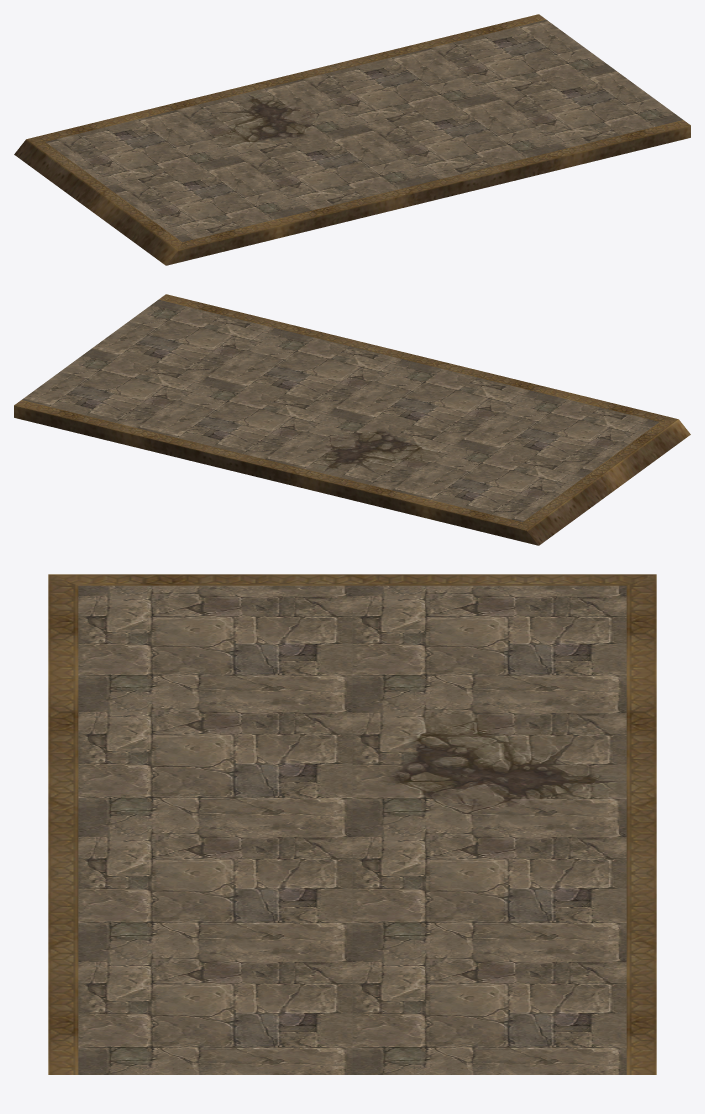
The model's file is blsd_taizi_02.FBX.
3 renders of one model, top to bottom at view 1: azimuth 30°, elevation 25°; view 2: azimuth 150°, elevation 25°; view 3: azimuth 270°, elevation 25°, orthographic. The views are drawn at different scales.
Visible parts, largest first — view 1: blsd_taizi_02; view 2: blsd_taizi_02; view 3: blsd_taizi_02.
Part boxes in pixels (x1,y1,x2,y2): blsd_taizi_02: [14, 14, 690, 265]; blsd_taizi_02: [14, 294, 690, 545]; blsd_taizi_02: [48, 574, 656, 1074].
Bounding box in the file's own units: 1152 × 578 × 25.86.
